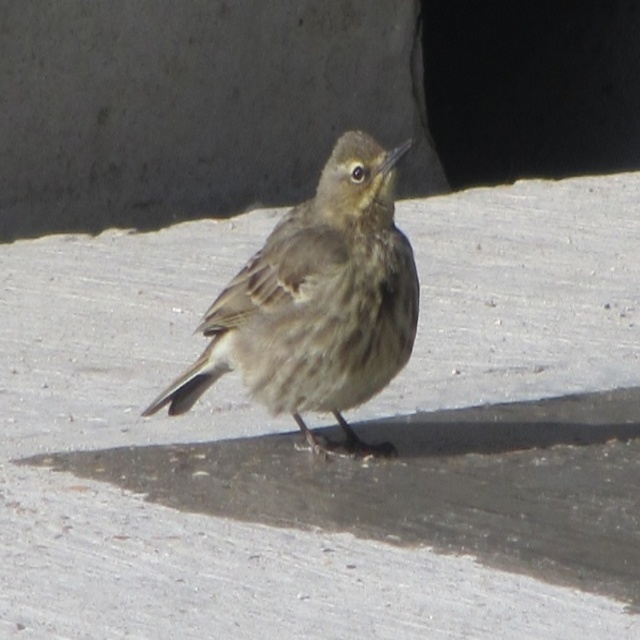Sparrow: (141, 129, 420, 459)
